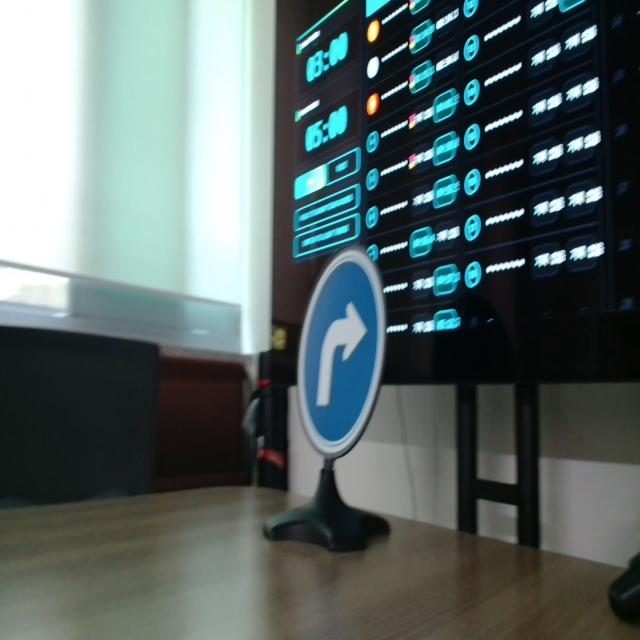right_dierection: (292, 232, 402, 489)
